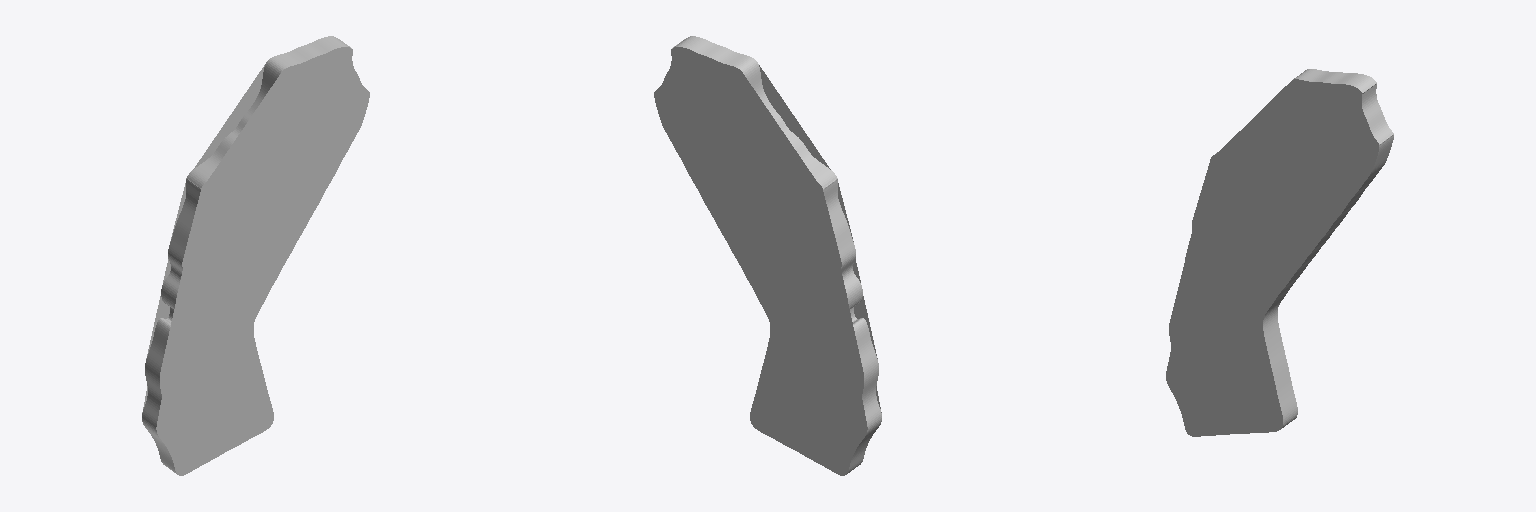
3 renders of one model, left to right at view 1: azimuth 30°, elevation 25°; view 2: azimuth 150°, elevation 25°; view 3: azimuth 330°, elevation 25°, orthographic.
Parts seen in each view (by area): view 1: 平面; view 2: 平面; view 3: 平面.
Part boxes in pixels (bbox=[...]): 平面: bbox=[142, 36, 369, 475]; 平面: bbox=[654, 36, 881, 475]; 平面: bbox=[1166, 69, 1393, 436].
Bounding box in the file's own units: 1.69 × 2.95 × 0.2.